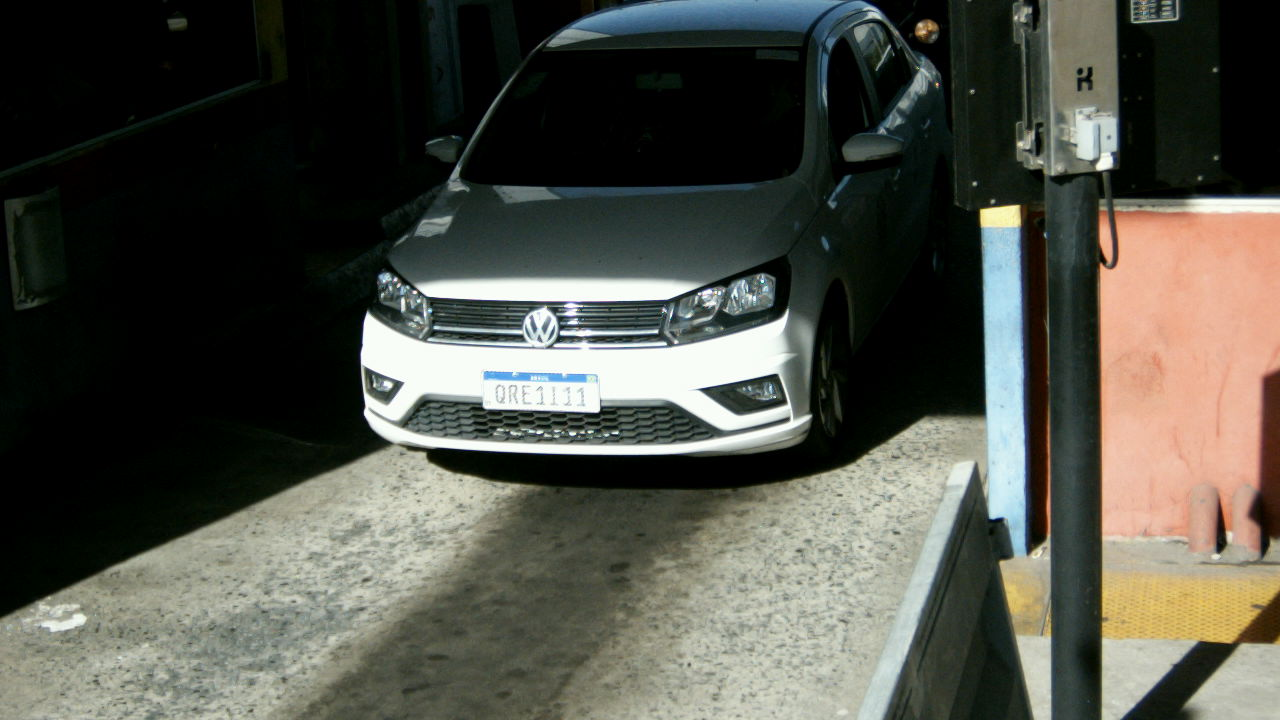placa: (481, 369, 601, 413)
